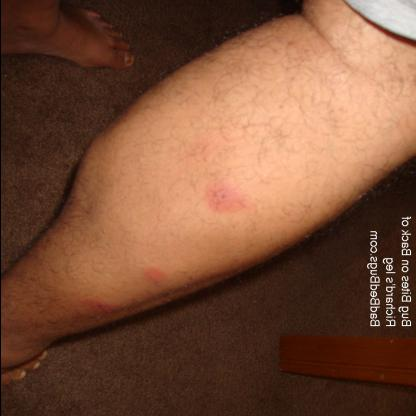Bed Bug: (197, 176, 254, 214), (79, 294, 124, 318), (143, 263, 167, 291), (198, 134, 219, 162)
